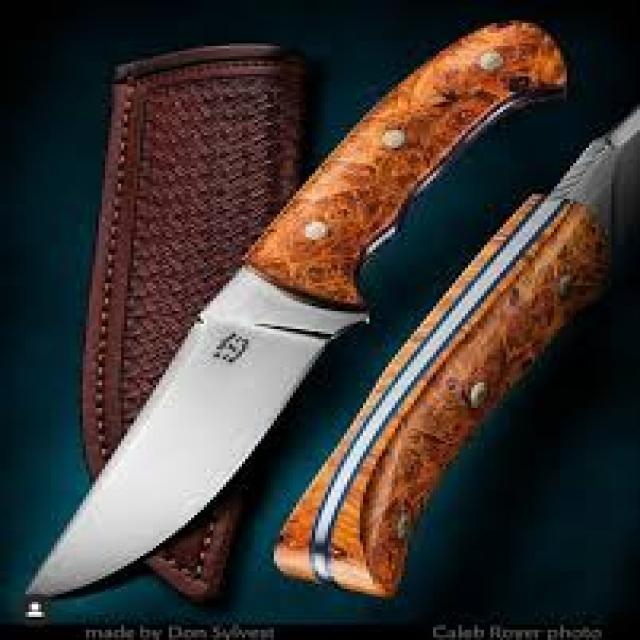Knife: (29, 16, 581, 622), (87, 15, 156, 447)
